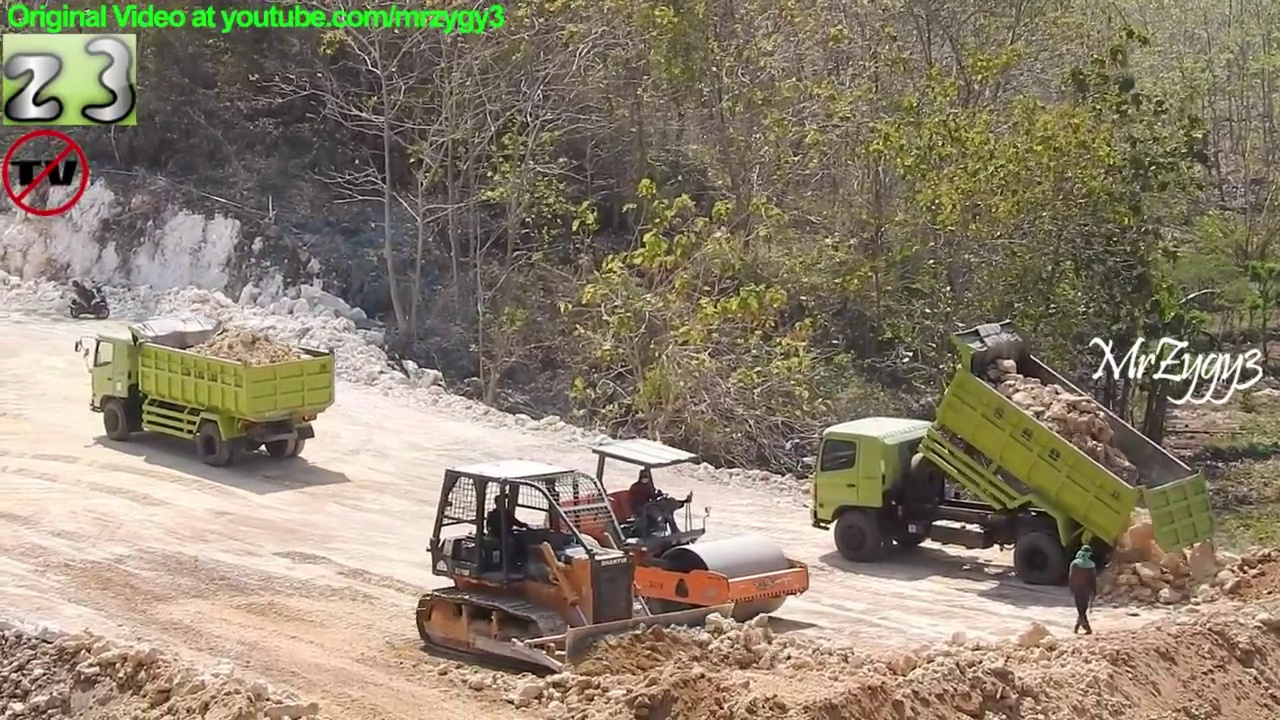bulldozer: (410, 455, 743, 690)
compactor: (524, 434, 815, 638)
truck: (806, 313, 1222, 590), (69, 312, 346, 471)
